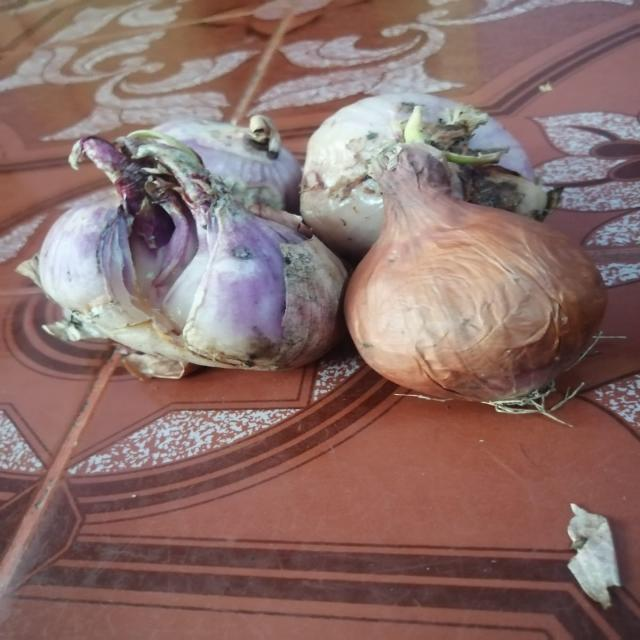rotten: (454, 169, 552, 221), (130, 232, 176, 326)
sprouting: (59, 142, 222, 202), (388, 111, 494, 164)
